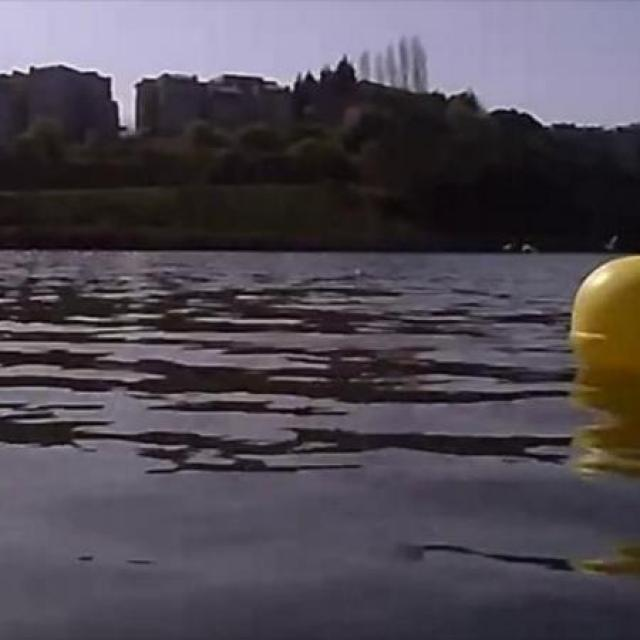buoy: (568, 248, 639, 393)
